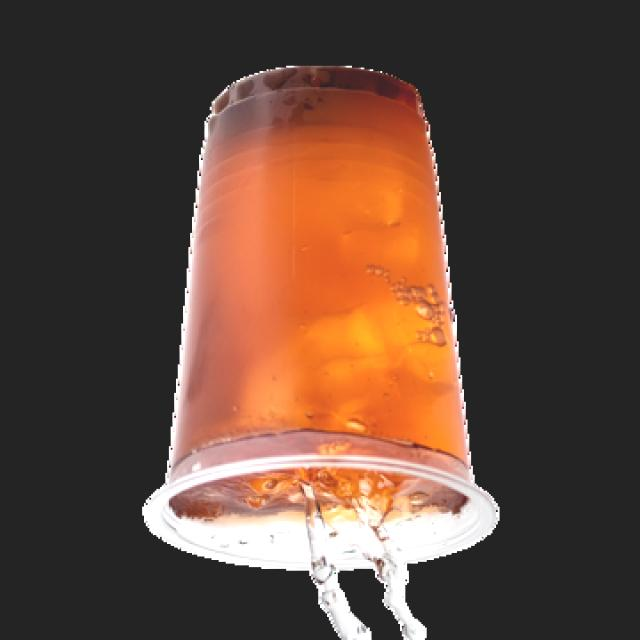Gelas: (134, 61, 512, 588)
